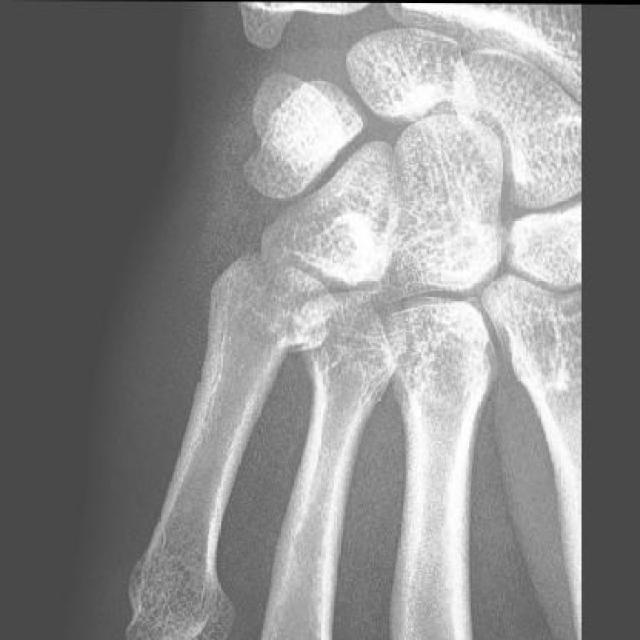Fracture: (196, 275, 322, 370)
